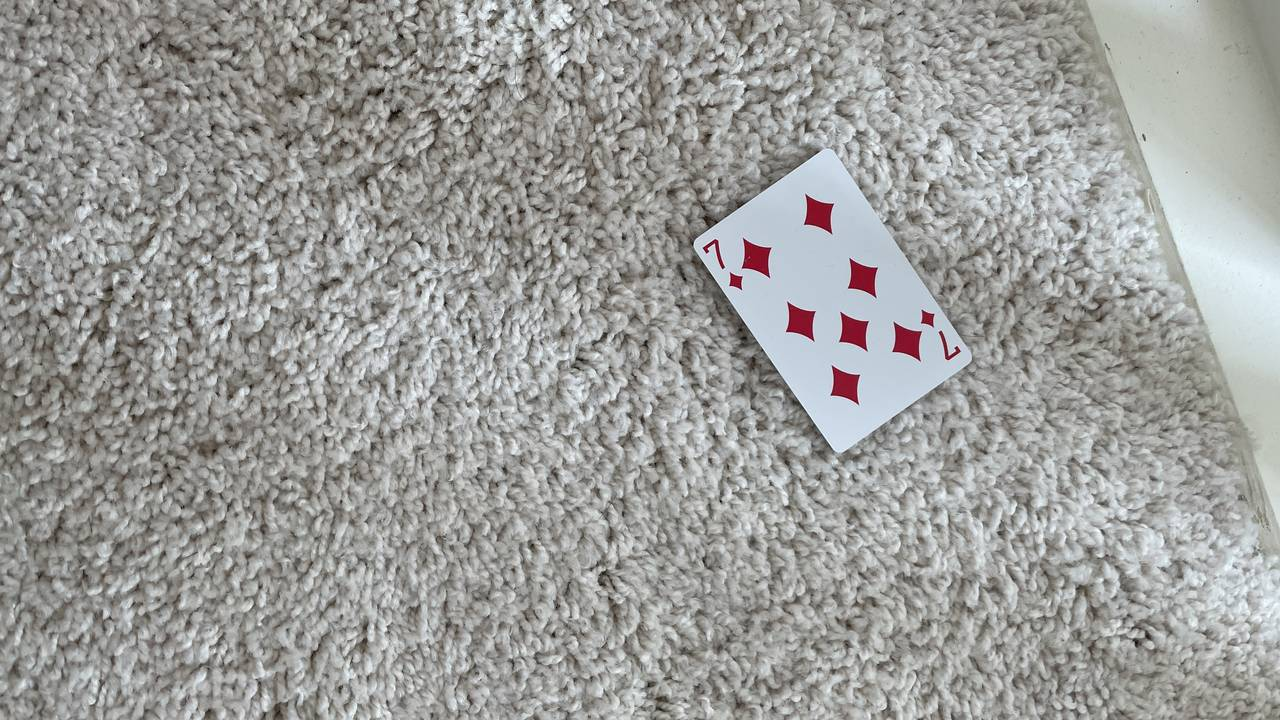seven: (706, 198, 962, 405)
